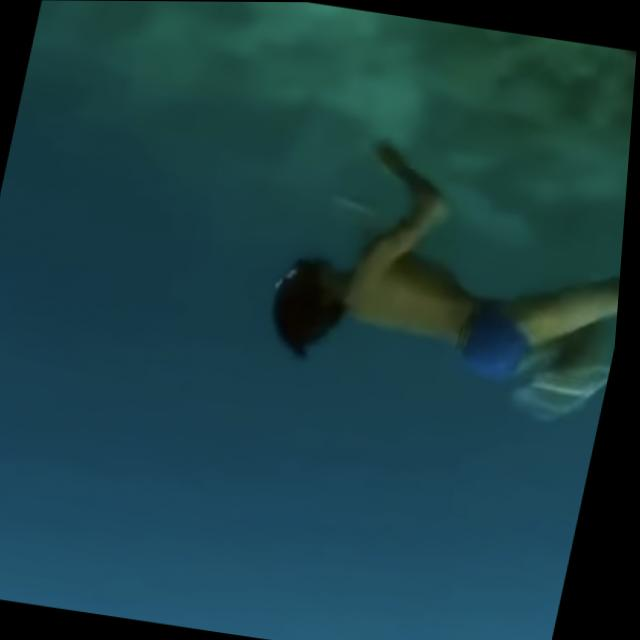human: (237, 112, 634, 438), (578, 44, 638, 157)
